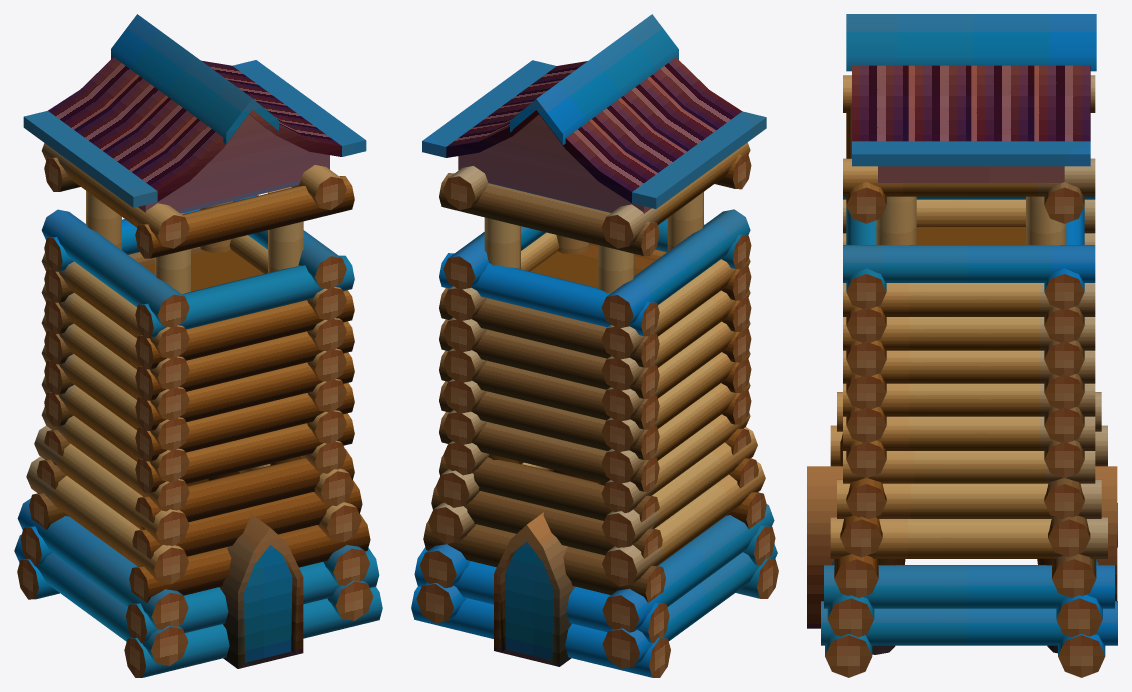
Rendered from simple_low_poly_tower_lvl2.glb.
The picture shows the model from 3 angles, left to right: view 1: azimuth 30°, elevation 25°; view 2: azimuth 150°, elevation 25°; view 3: azimuth 270°, elevation 25°; orthographic projection. The views are drawn at different scales.
Parts seen in each view (by area): view 1: tower_lvl2_Material #26_0; view 2: tower_lvl2_Material #26_0; view 3: tower_lvl2_Material #26_0.
Boxes of the visible parts, x1,y1,x2,y2 form: tower_lvl2_Material #26_0: (14, 14, 382, 677); tower_lvl2_Material #26_0: (411, 14, 778, 677); tower_lvl2_Material #26_0: (807, 14, 1117, 677).
Size of the model in its own units: 2.36 by 5.25 by 2.46.
Materials: 1 (1 with a texture image).
